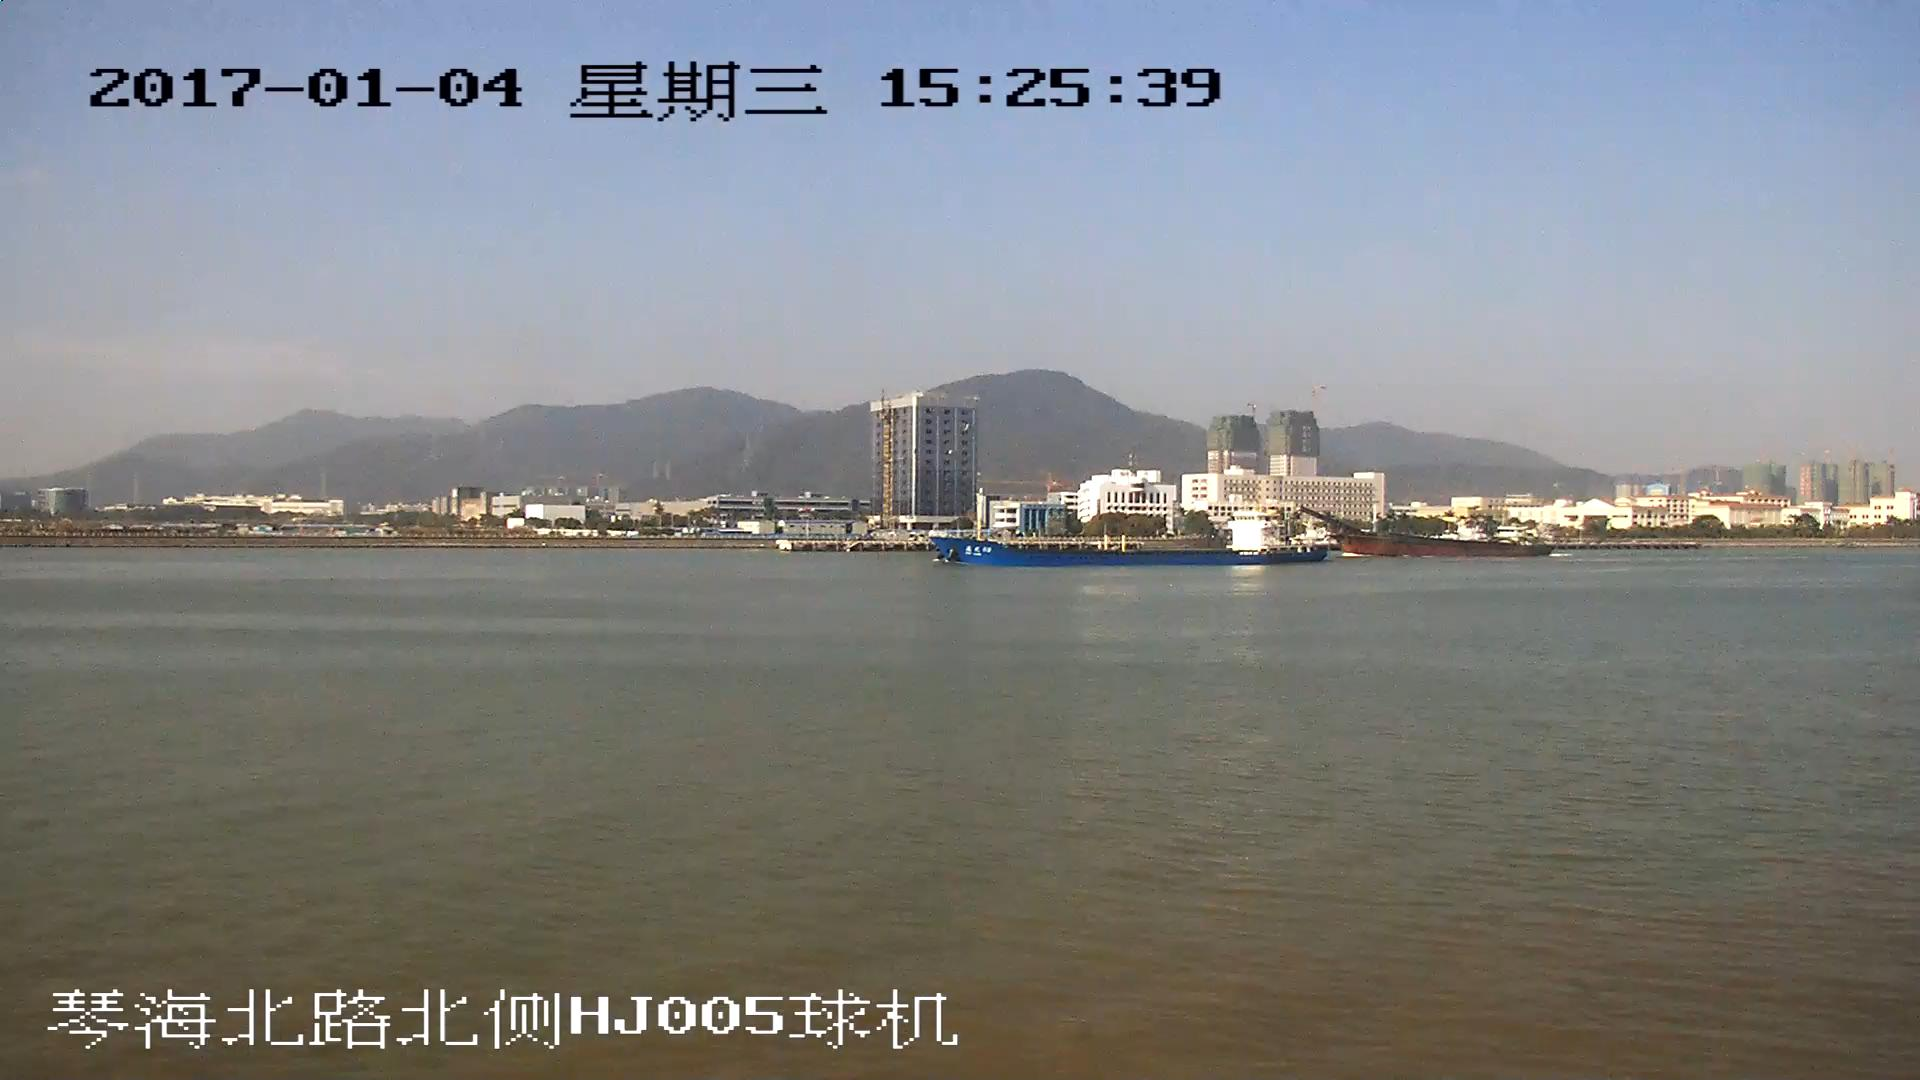bulk cargo carrier: (1306, 510, 1560, 558)
general cargo ship: (929, 513, 1335, 563)
